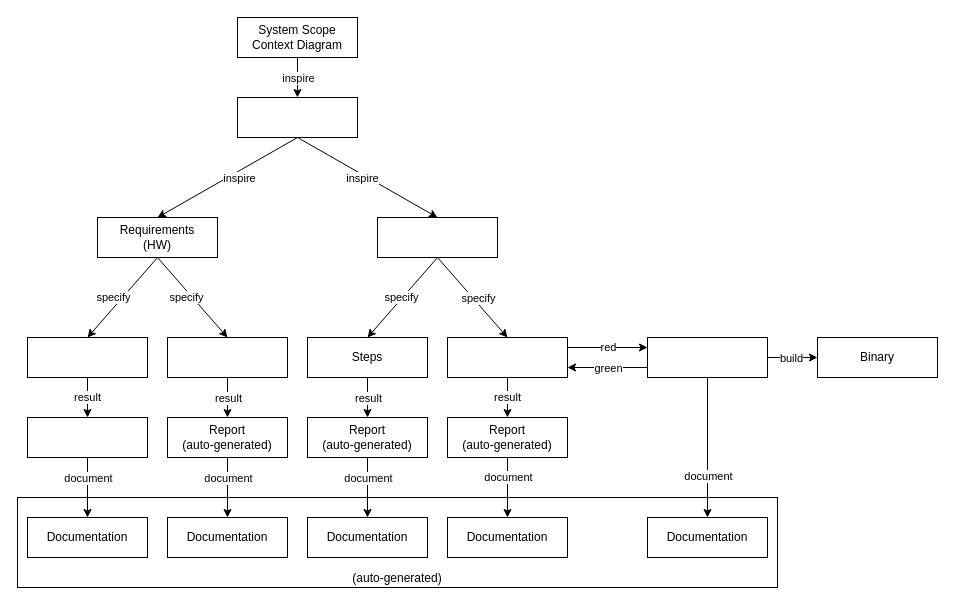
Some shapes in this 955 by 605 pixel diagram are drawn without their labels. The shapes that lost their labels are listed below. From the top down, each one's centre as x and y in pixels, then its label:
At point (297, 117): "Use Cases".
At point (437, 237): "Features (SW with BDD)".
At point (87, 357): "Inspections (by Hand)".
At point (227, 357): "Tests".
At point (507, 357): "Unit-Tests".
At point (707, 357): "Code".
At point (87, 437): "Report (hand-generated)".
